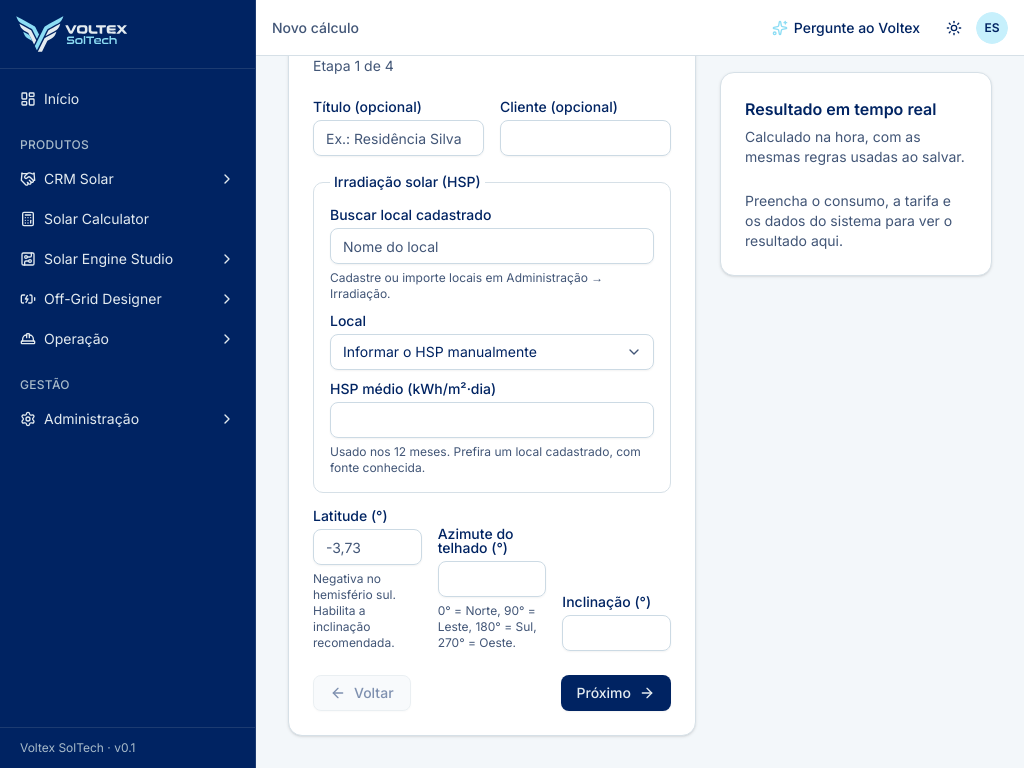
Scenario: wizard de novo cálculo › valida cada etapa antes de avançar, com mensagens por campo
This screenshot has width=1024, height=768.
(page scrolled)
Expected: the field labelled "HSP médio (kWh/m²·dia)" is shown, [330,402,654,438]
Click the button "Próximo": (616, 693) [560,675,671,711]
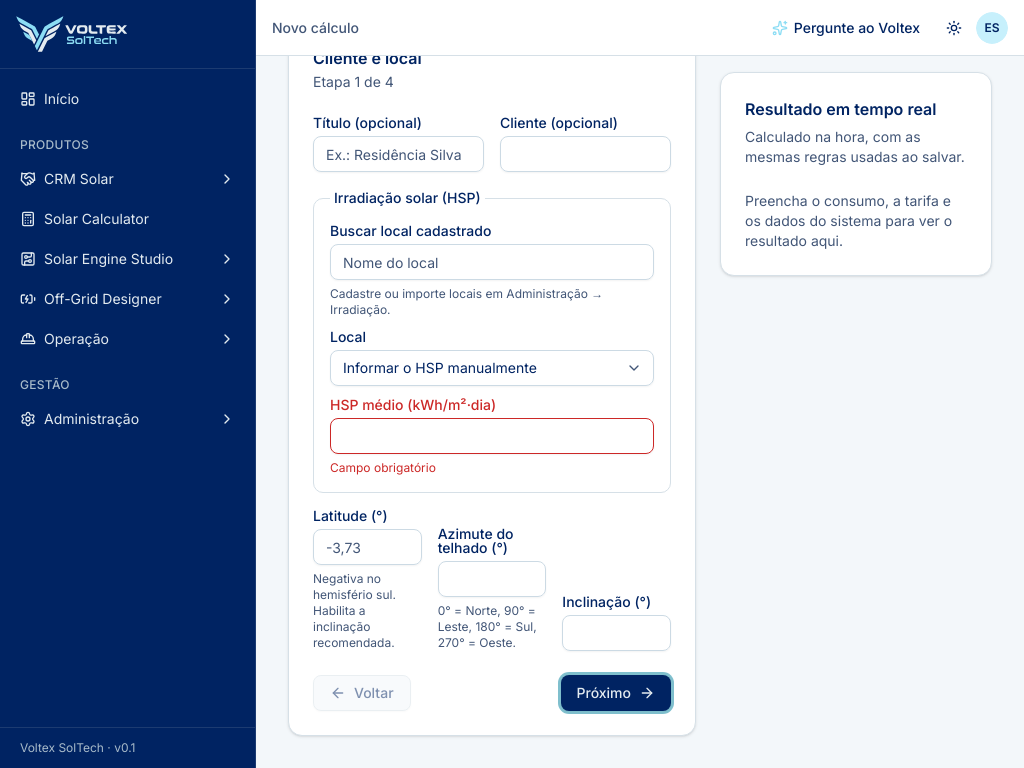
Expected: the text "Etapa 1 de 4" is shown, [313,73,394,90]
Now the text "Campo obrigatório" is shown, box [330,460,436,475]
In the field labelled "HSP médio (kWh/m²·dia)": (492, 436) [330,418,654,454], type "5"
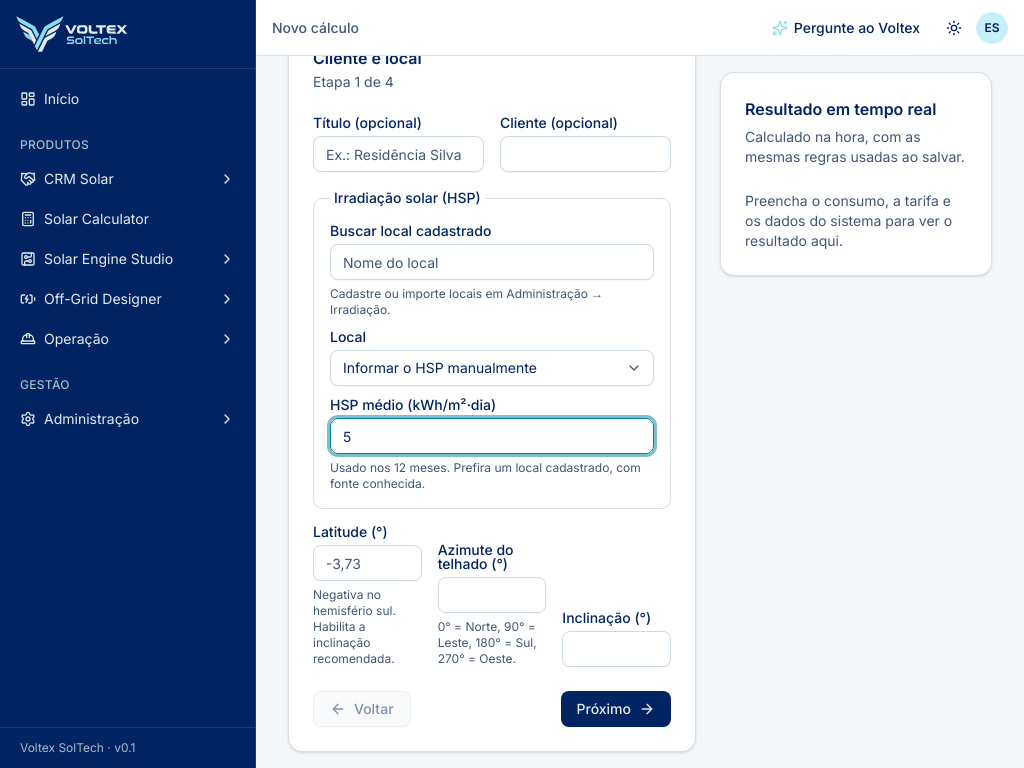
Click the button "Próximo": (616, 709) [560,691,671,727]
(page scrolled)
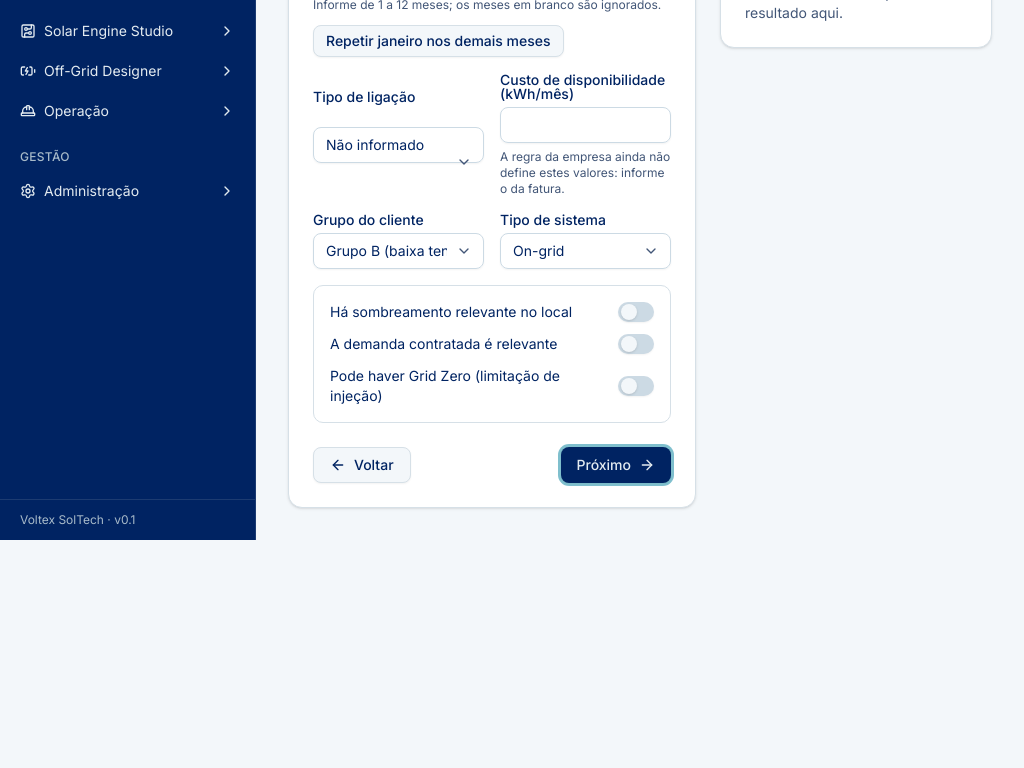
Click the button "Próximo": (616, 465) [560,447,671,483]
(page scrolled)
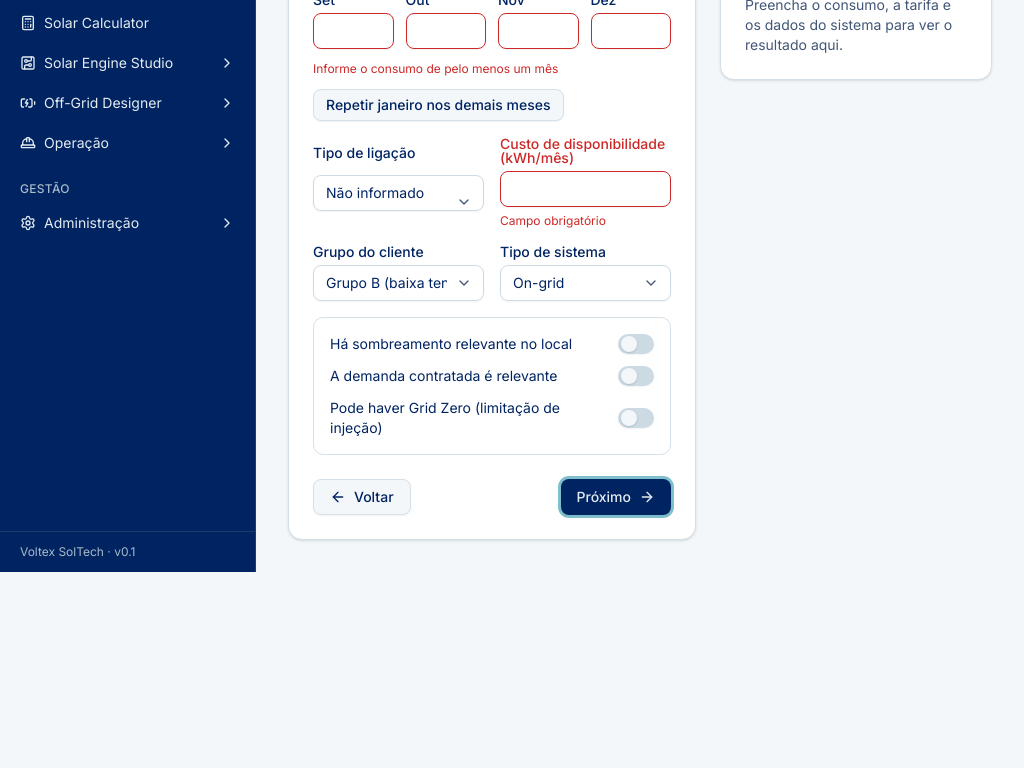
Now the text "Informe o consumo de pelo menos um mês" is shown, box [313,61,558,76]
Click the button "Voltar": (362, 497) [313,479,411,515]
(page scrolled)
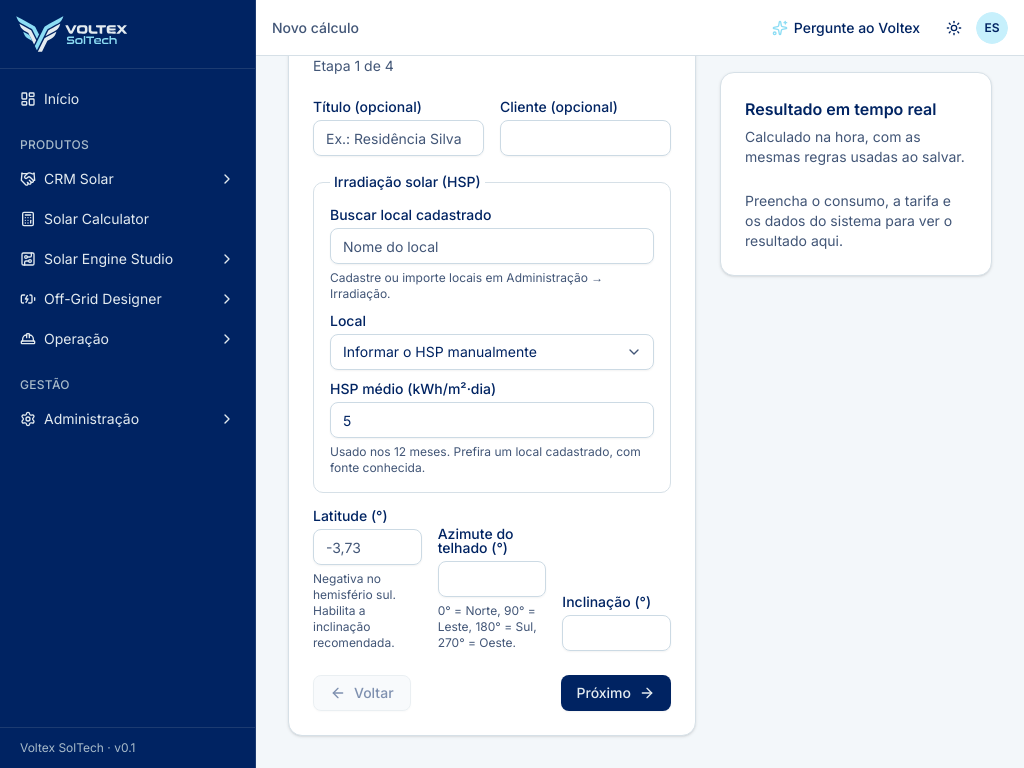
Now the text "Etapa 1 de 4" is shown, box [313,57,394,74]
